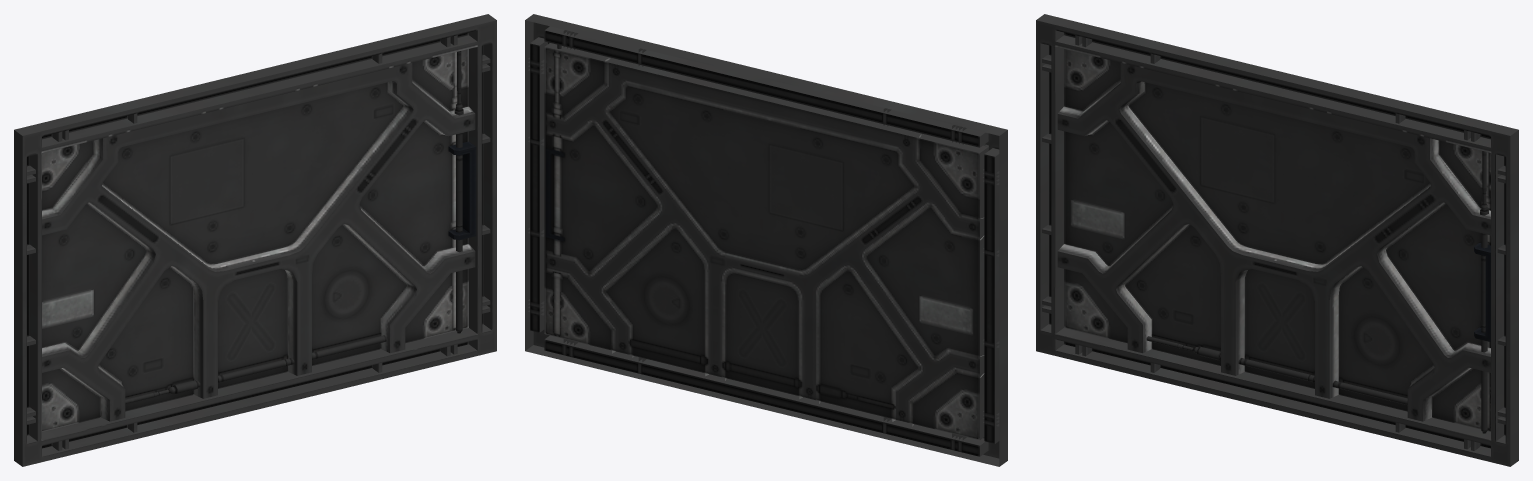
File: Panel_C_1x1,5_1.FBX
3 renders of one model, left to right at view 1: azimuth 30°, elevation 25°; view 2: azimuth 150°, elevation 25°; view 3: azimuth 330°, elevation 25°, orthographic.
Parts seen in each view (by area): view 1: Panel_C_1x1,5_1; view 2: Panel_C_1x1,5_1; view 3: Panel_C_1x1,5_1.
Boxes of the visible parts, x1,y1,x2,y2 form: Panel_C_1x1,5_1: (14, 14, 496, 466); Panel_C_1x1,5_1: (525, 14, 1007, 466); Panel_C_1x1,5_1: (1036, 14, 1518, 466).
Bounding box in the file's own units: 150 × 100 × 4.67.
